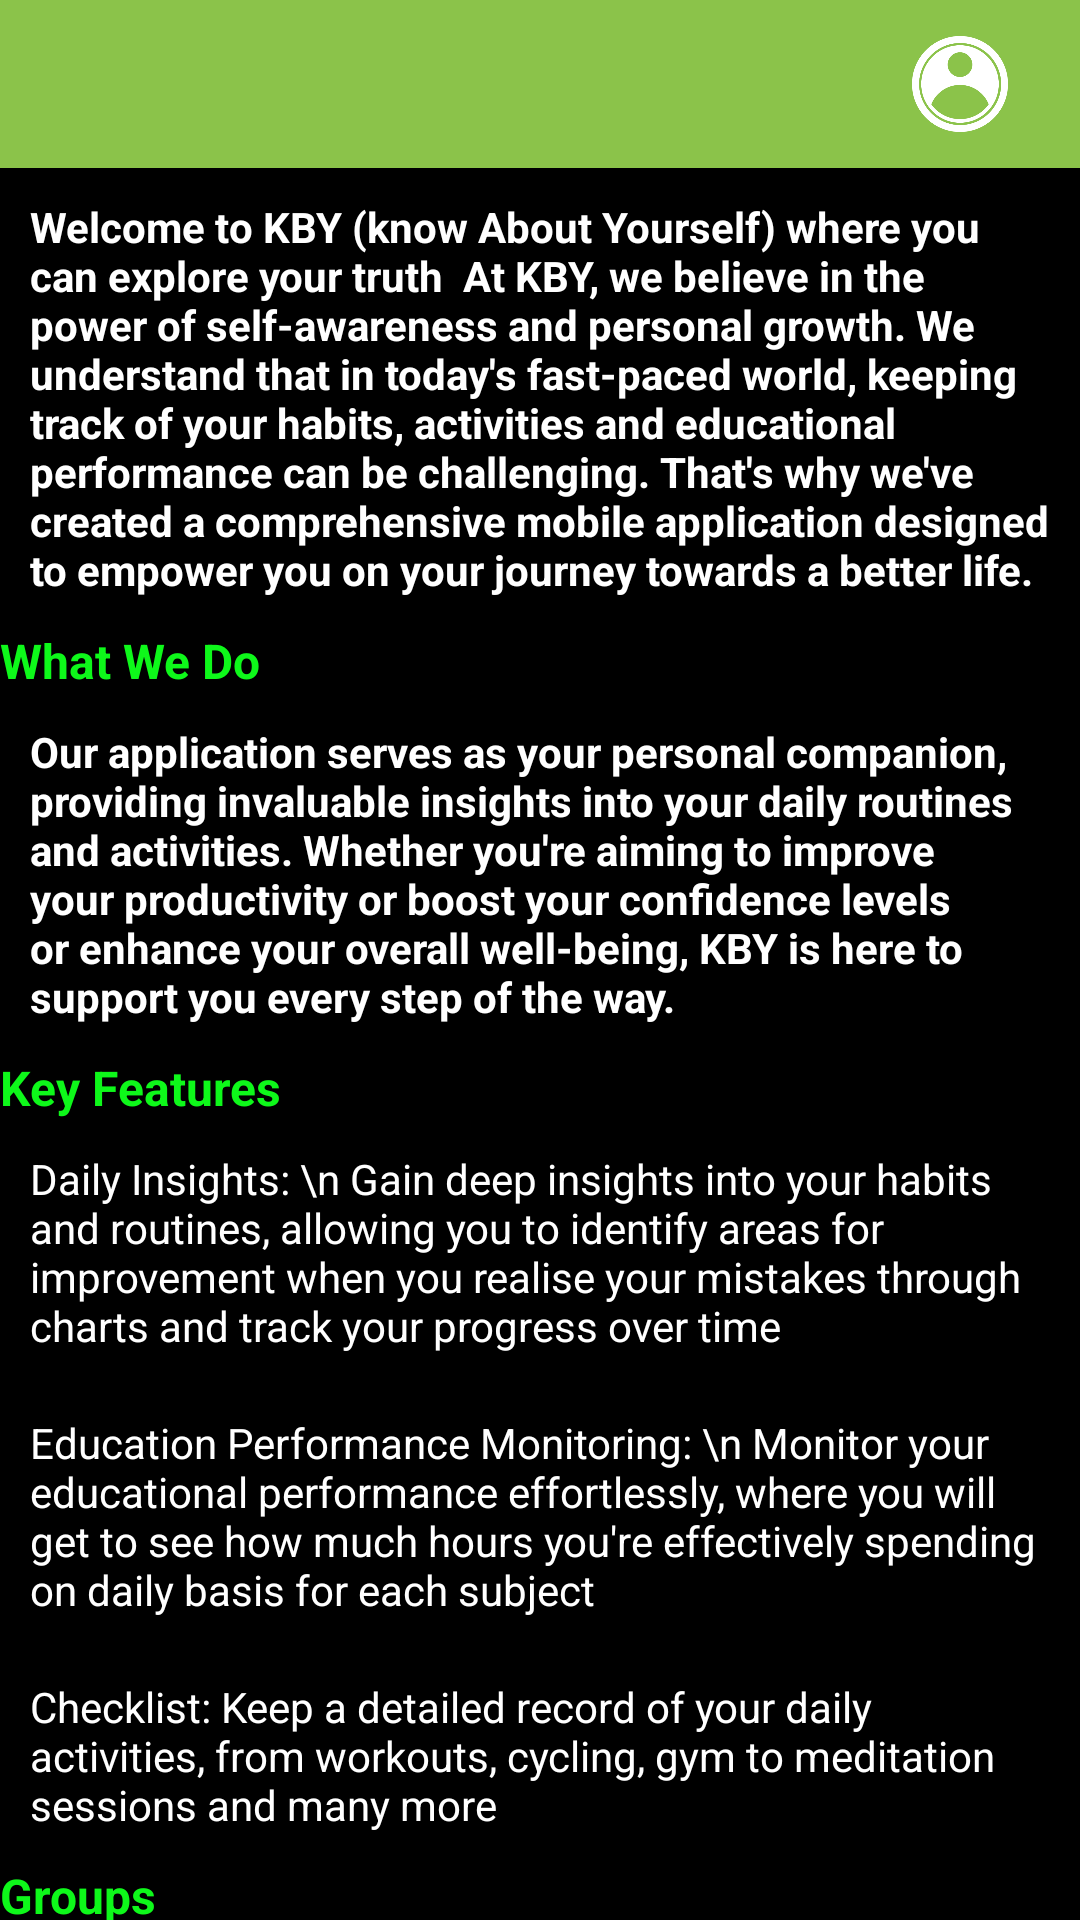

Named icons in this screenshot (1080x1920) and their centers, (x=x, y=y):
userima: (x=960, y=84)
